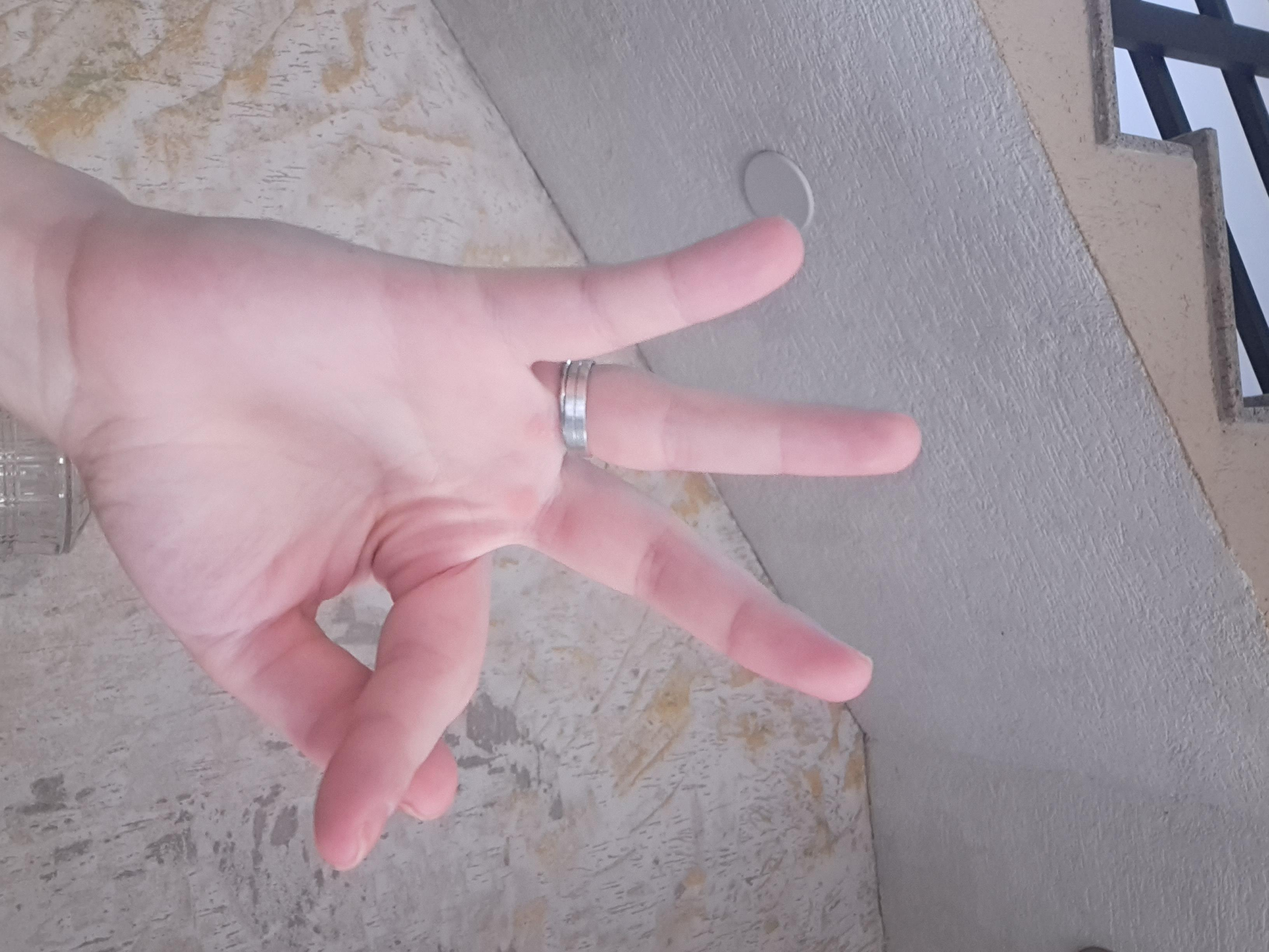F: (192, 245, 1177, 881)
